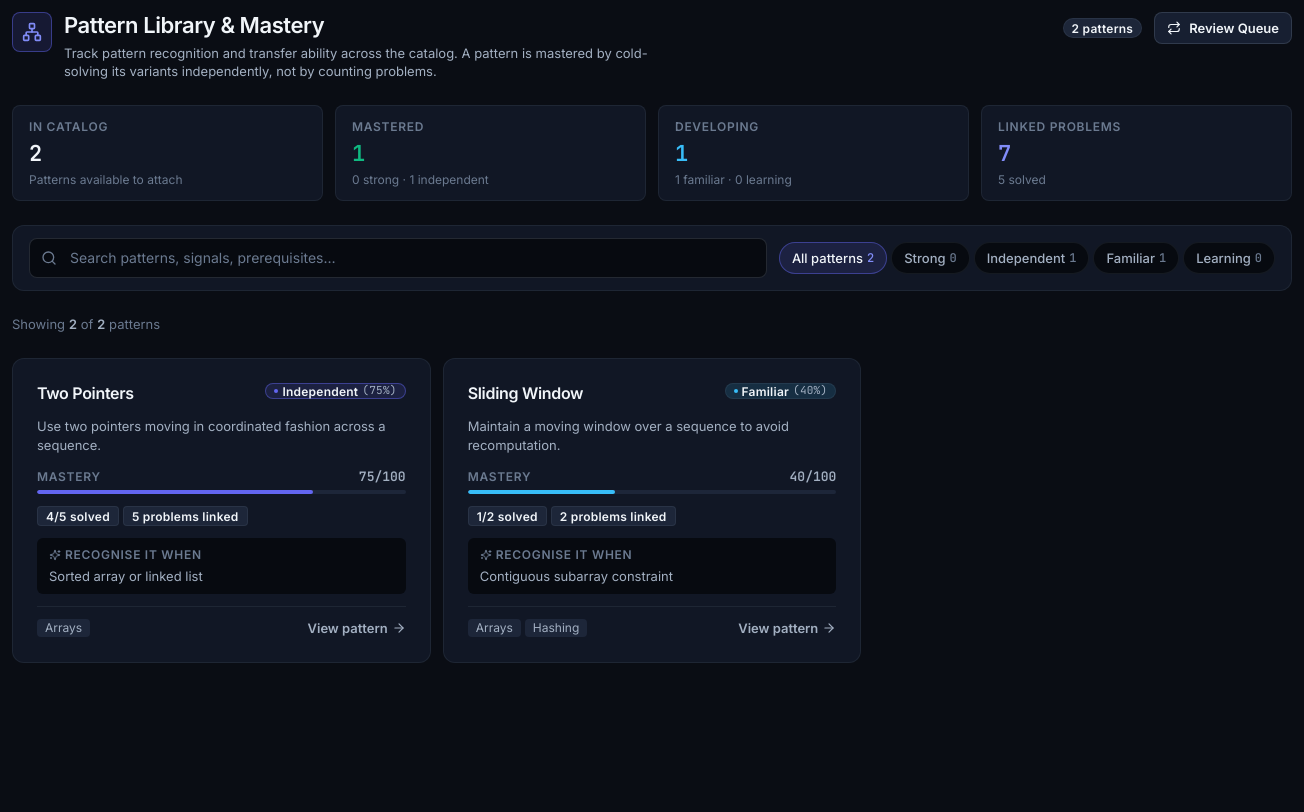
Test: PatternsPage (Pattern Library redesign) › explains an empty result and clears the controls in one action
This screenshot has width=1304, height=812.
Expected: the heading "Two Pointers" is shown, [37,383,134,403]
Step 1. Type "segment tree" into the search field labelled "Search patterns, signals, prerequisites…" → (398, 258), box [29,238,767,278]
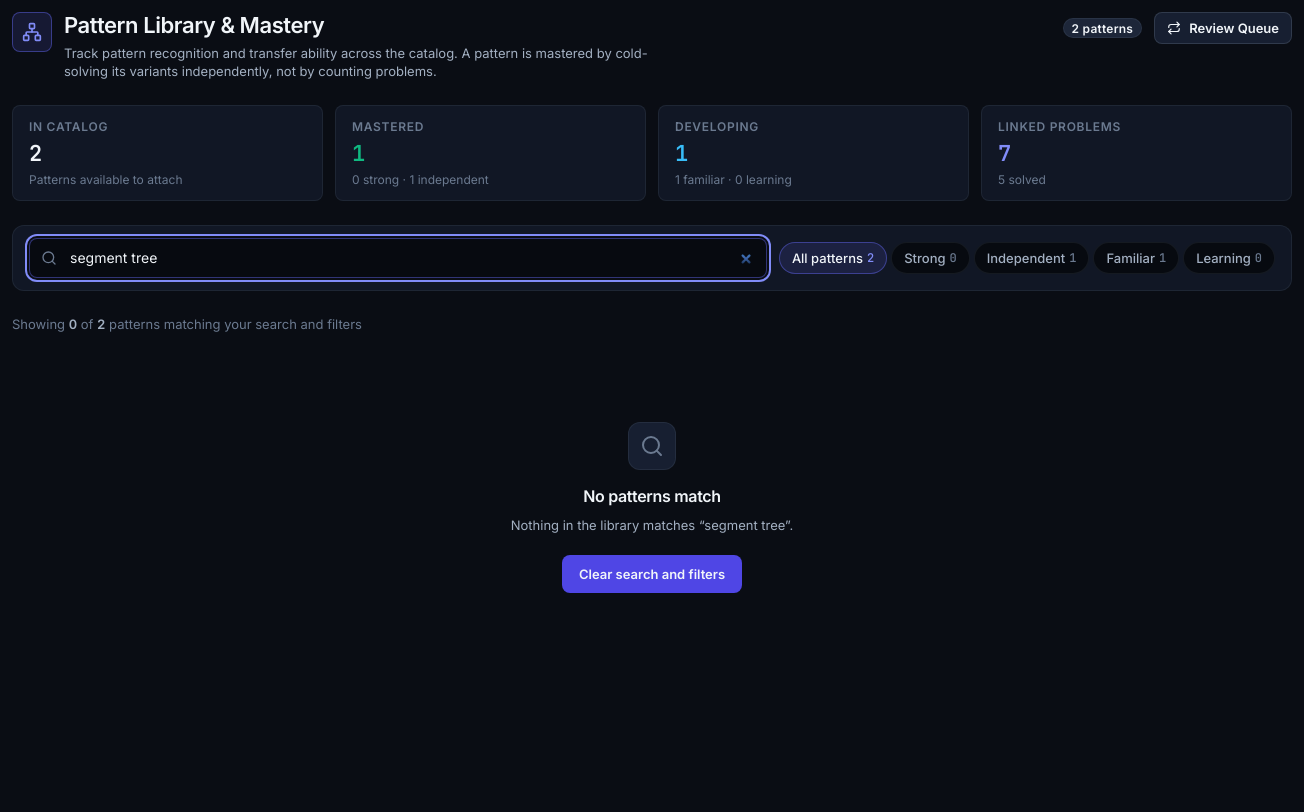
Expected: the heading "No patterns match" is shown, [583,486,721,508]
Step 2. Click the button "Clear search and filters" → (652, 574), box [562,555,742,593]
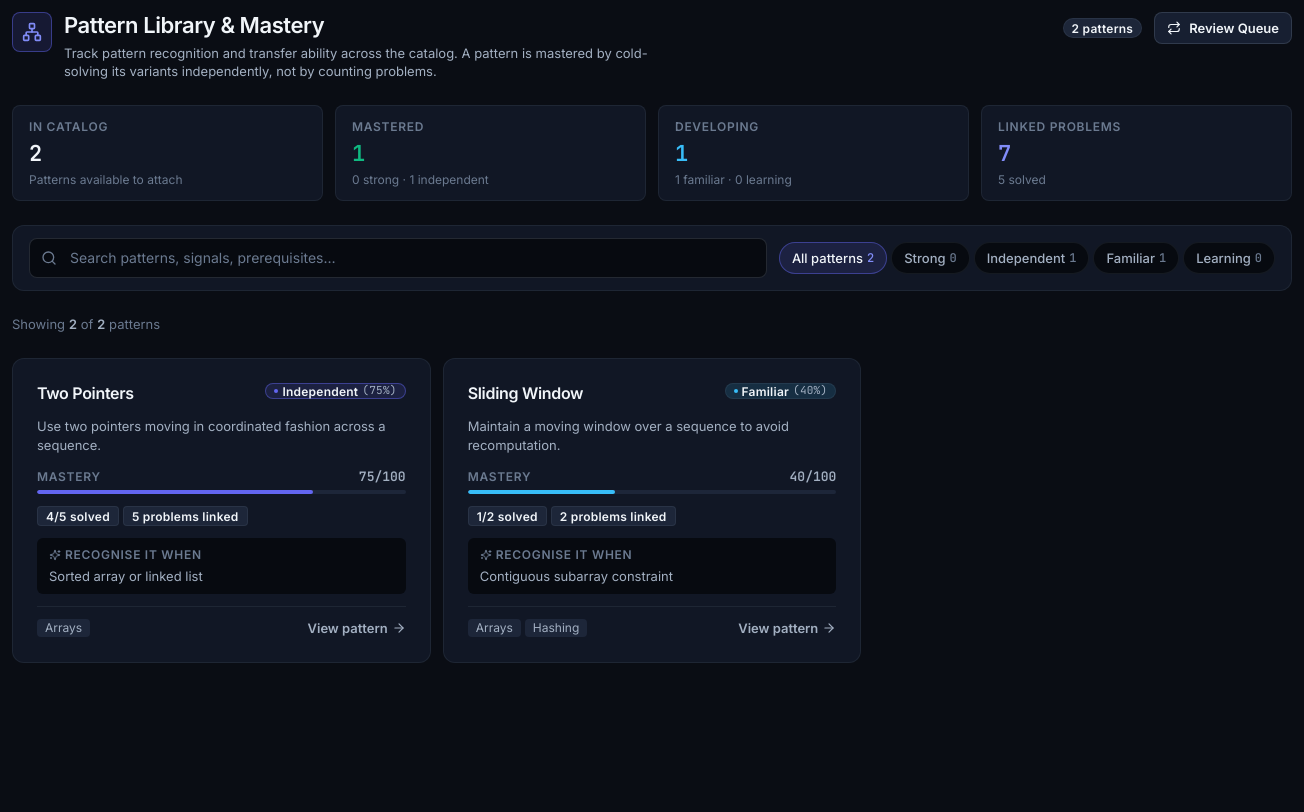
Expected: the heading "Two Pointers" is shown, [37,383,134,403]
Expected: the heading "Sliding Window" is shown, [468,383,583,403]
